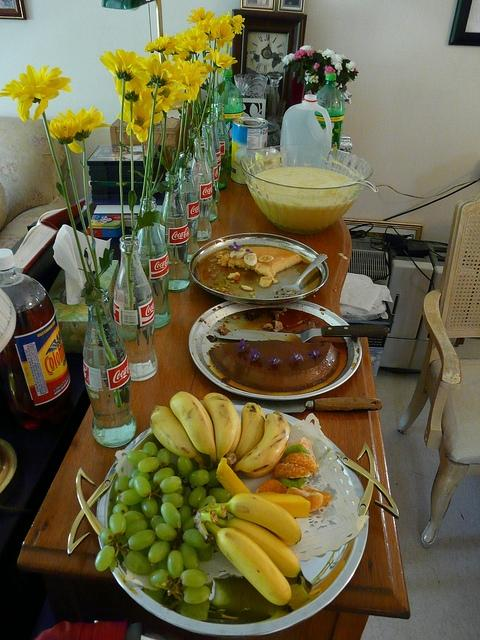banana: (205, 521, 292, 606), (217, 518, 302, 578), (210, 493, 302, 542), (169, 390, 216, 470), (148, 406, 206, 470), (231, 412, 290, 473), (203, 392, 240, 464), (234, 402, 265, 467), (226, 412, 242, 468), (243, 252, 257, 266), (230, 248, 246, 260), (258, 276, 272, 288), (258, 255, 274, 262)
grape: (180, 598, 211, 620), (124, 552, 152, 576), (182, 528, 212, 550), (180, 568, 208, 588), (128, 530, 156, 550), (161, 502, 182, 528), (179, 543, 199, 570), (142, 588, 172, 606), (94, 546, 114, 572), (184, 586, 212, 604), (167, 550, 184, 579), (148, 541, 170, 563), (153, 467, 175, 486), (155, 523, 177, 542), (125, 520, 148, 538), (188, 469, 211, 487), (119, 489, 144, 505), (160, 476, 182, 494), (188, 486, 206, 508), (110, 512, 126, 536), (134, 476, 152, 497), (161, 492, 184, 508), (149, 568, 169, 586), (127, 451, 151, 466), (156, 550, 174, 570), (142, 496, 158, 518), (137, 457, 160, 472), (178, 457, 194, 478), (208, 488, 230, 503), (206, 470, 223, 488), (114, 475, 130, 494), (124, 511, 144, 526), (156, 448, 170, 468), (179, 506, 192, 527), (142, 441, 158, 457), (198, 496, 216, 510), (99, 528, 115, 543), (113, 502, 129, 516), (182, 483, 192, 505), (143, 514, 155, 532), (165, 463, 179, 476), (129, 502, 144, 514), (168, 450, 179, 466), (150, 467, 162, 481), (148, 480, 156, 500), (128, 476, 138, 488)
orange: (286, 487, 324, 512), (298, 484, 331, 506), (284, 452, 318, 472), (274, 462, 311, 479), (254, 478, 288, 494), (299, 437, 317, 465)
